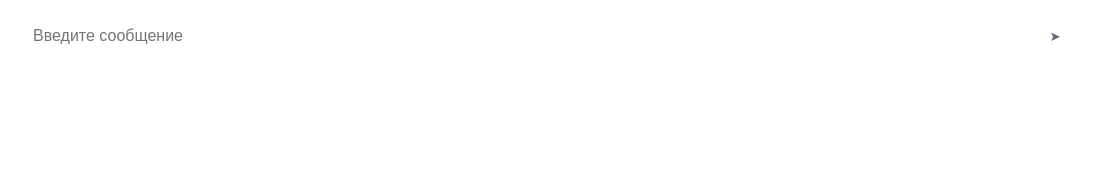
Scenario: SendMessageForm › sends message and clears input on success
Type "Привет" into the field with placeholder "Введите сообщение" at (516, 36), box [17,12,1015,60]
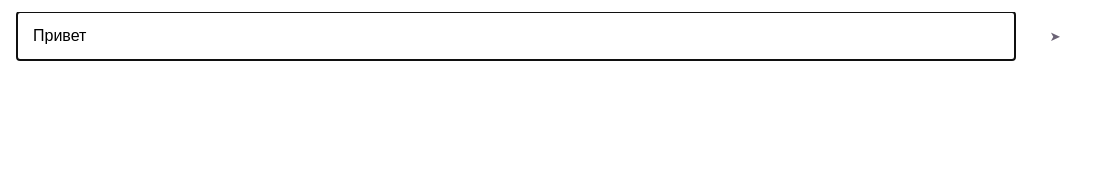
Click the button at (1055, 36), box [1031,12,1079,60]
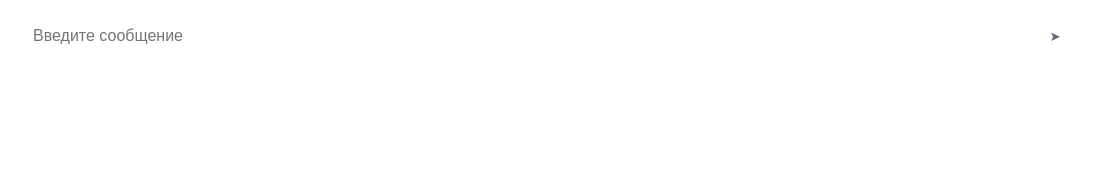
Check: the field with placeholder "Введите сообщение" is empty, box [17,12,1015,60]
